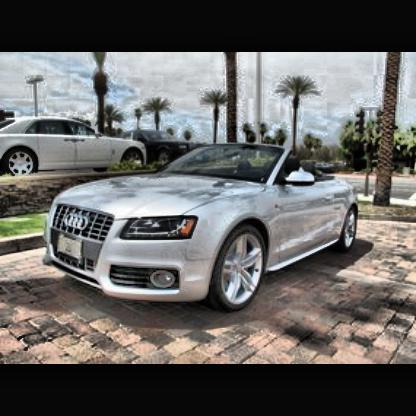Audi S5 Convertible 2012: (41, 145, 366, 309)
